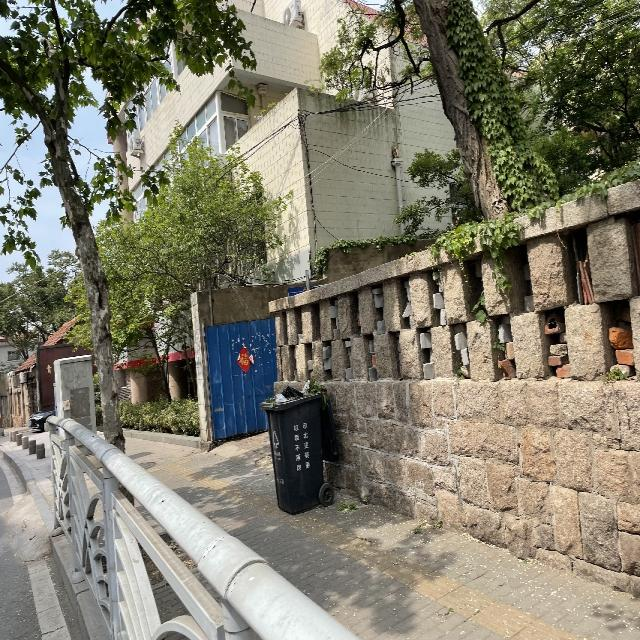overflow: (259, 378, 326, 514)
